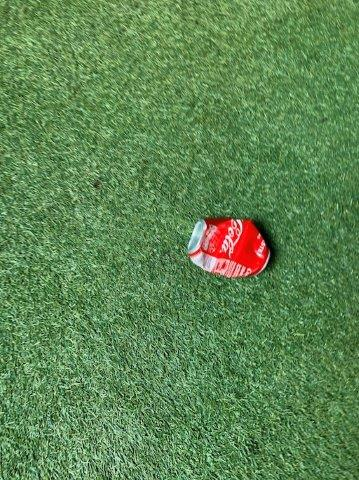kaleng: (189, 218, 269, 277)
